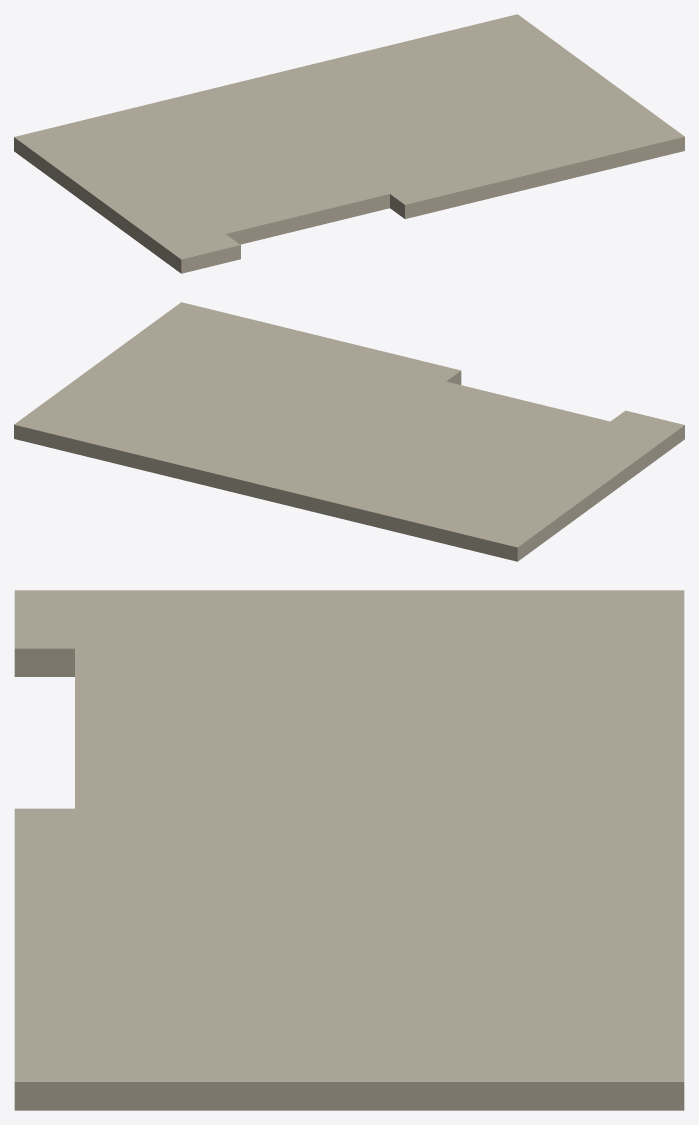
3 views of the same model, one above another, from view 1: azimuth 30°, elevation 25°; view 2: azimuth 150°, elevation 25°; view 3: azimuth 270°, elevation 25° (orthographic). The views are drawn at different scales.
Parts seen in each view (by area): view 1: B-FF-SLAB; view 2: B-FF-SLAB; view 3: B-FF-SLAB.
Part boxes in pixels (bbox=[...]): B-FF-SLAB: bbox=[14, 14, 684, 273]; B-FF-SLAB: bbox=[14, 302, 684, 561]; B-FF-SLAB: bbox=[14, 590, 684, 1110].
Size of the model in its own units: 10.92 by 0.295 by 6.28.
